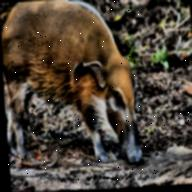boar: (0, 0, 144, 173)
